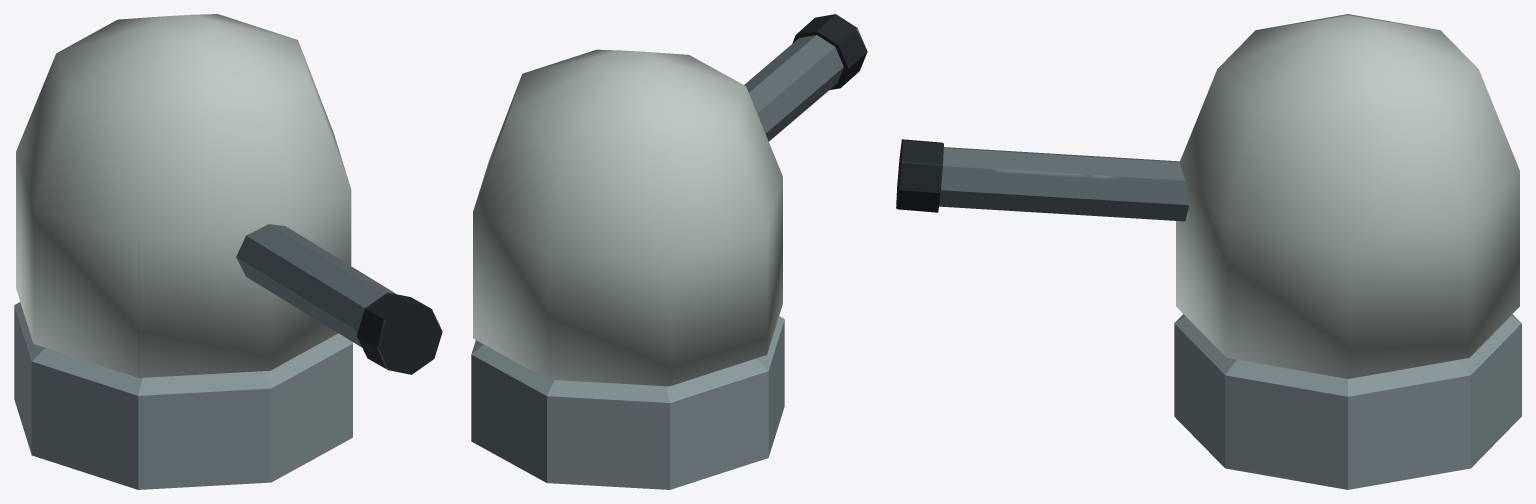
Rendered from mount_ciws_rotating.glb.
The picture shows the model from 3 angles, left to right: view 1: azimuth 30°, elevation 25°; view 2: azimuth 150°, elevation 25°; view 3: azimuth 270°, elevation 25°; orthographic projection. The views are drawn at different scales.
Parts seen in each view (by area): view 1: MESH_SLAVA_TEMPLATE_ciws; view 2: MESH_SLAVA_TEMPLATE_ciws; view 3: MESH_SLAVA_TEMPLATE_ciws.
Boxes of the visible parts, x1,y1,x2,y2 form: MESH_SLAVA_TEMPLATE_ciws: (14,14,442,489); MESH_SLAVA_TEMPLATE_ciws: (471,14,867,489); MESH_SLAVA_TEMPLATE_ciws: (896,14,1521,489).
Size of the model in its own units: 1.7 by 2.08 by 3.06.
Materials: 1 (1 with a texture image).
